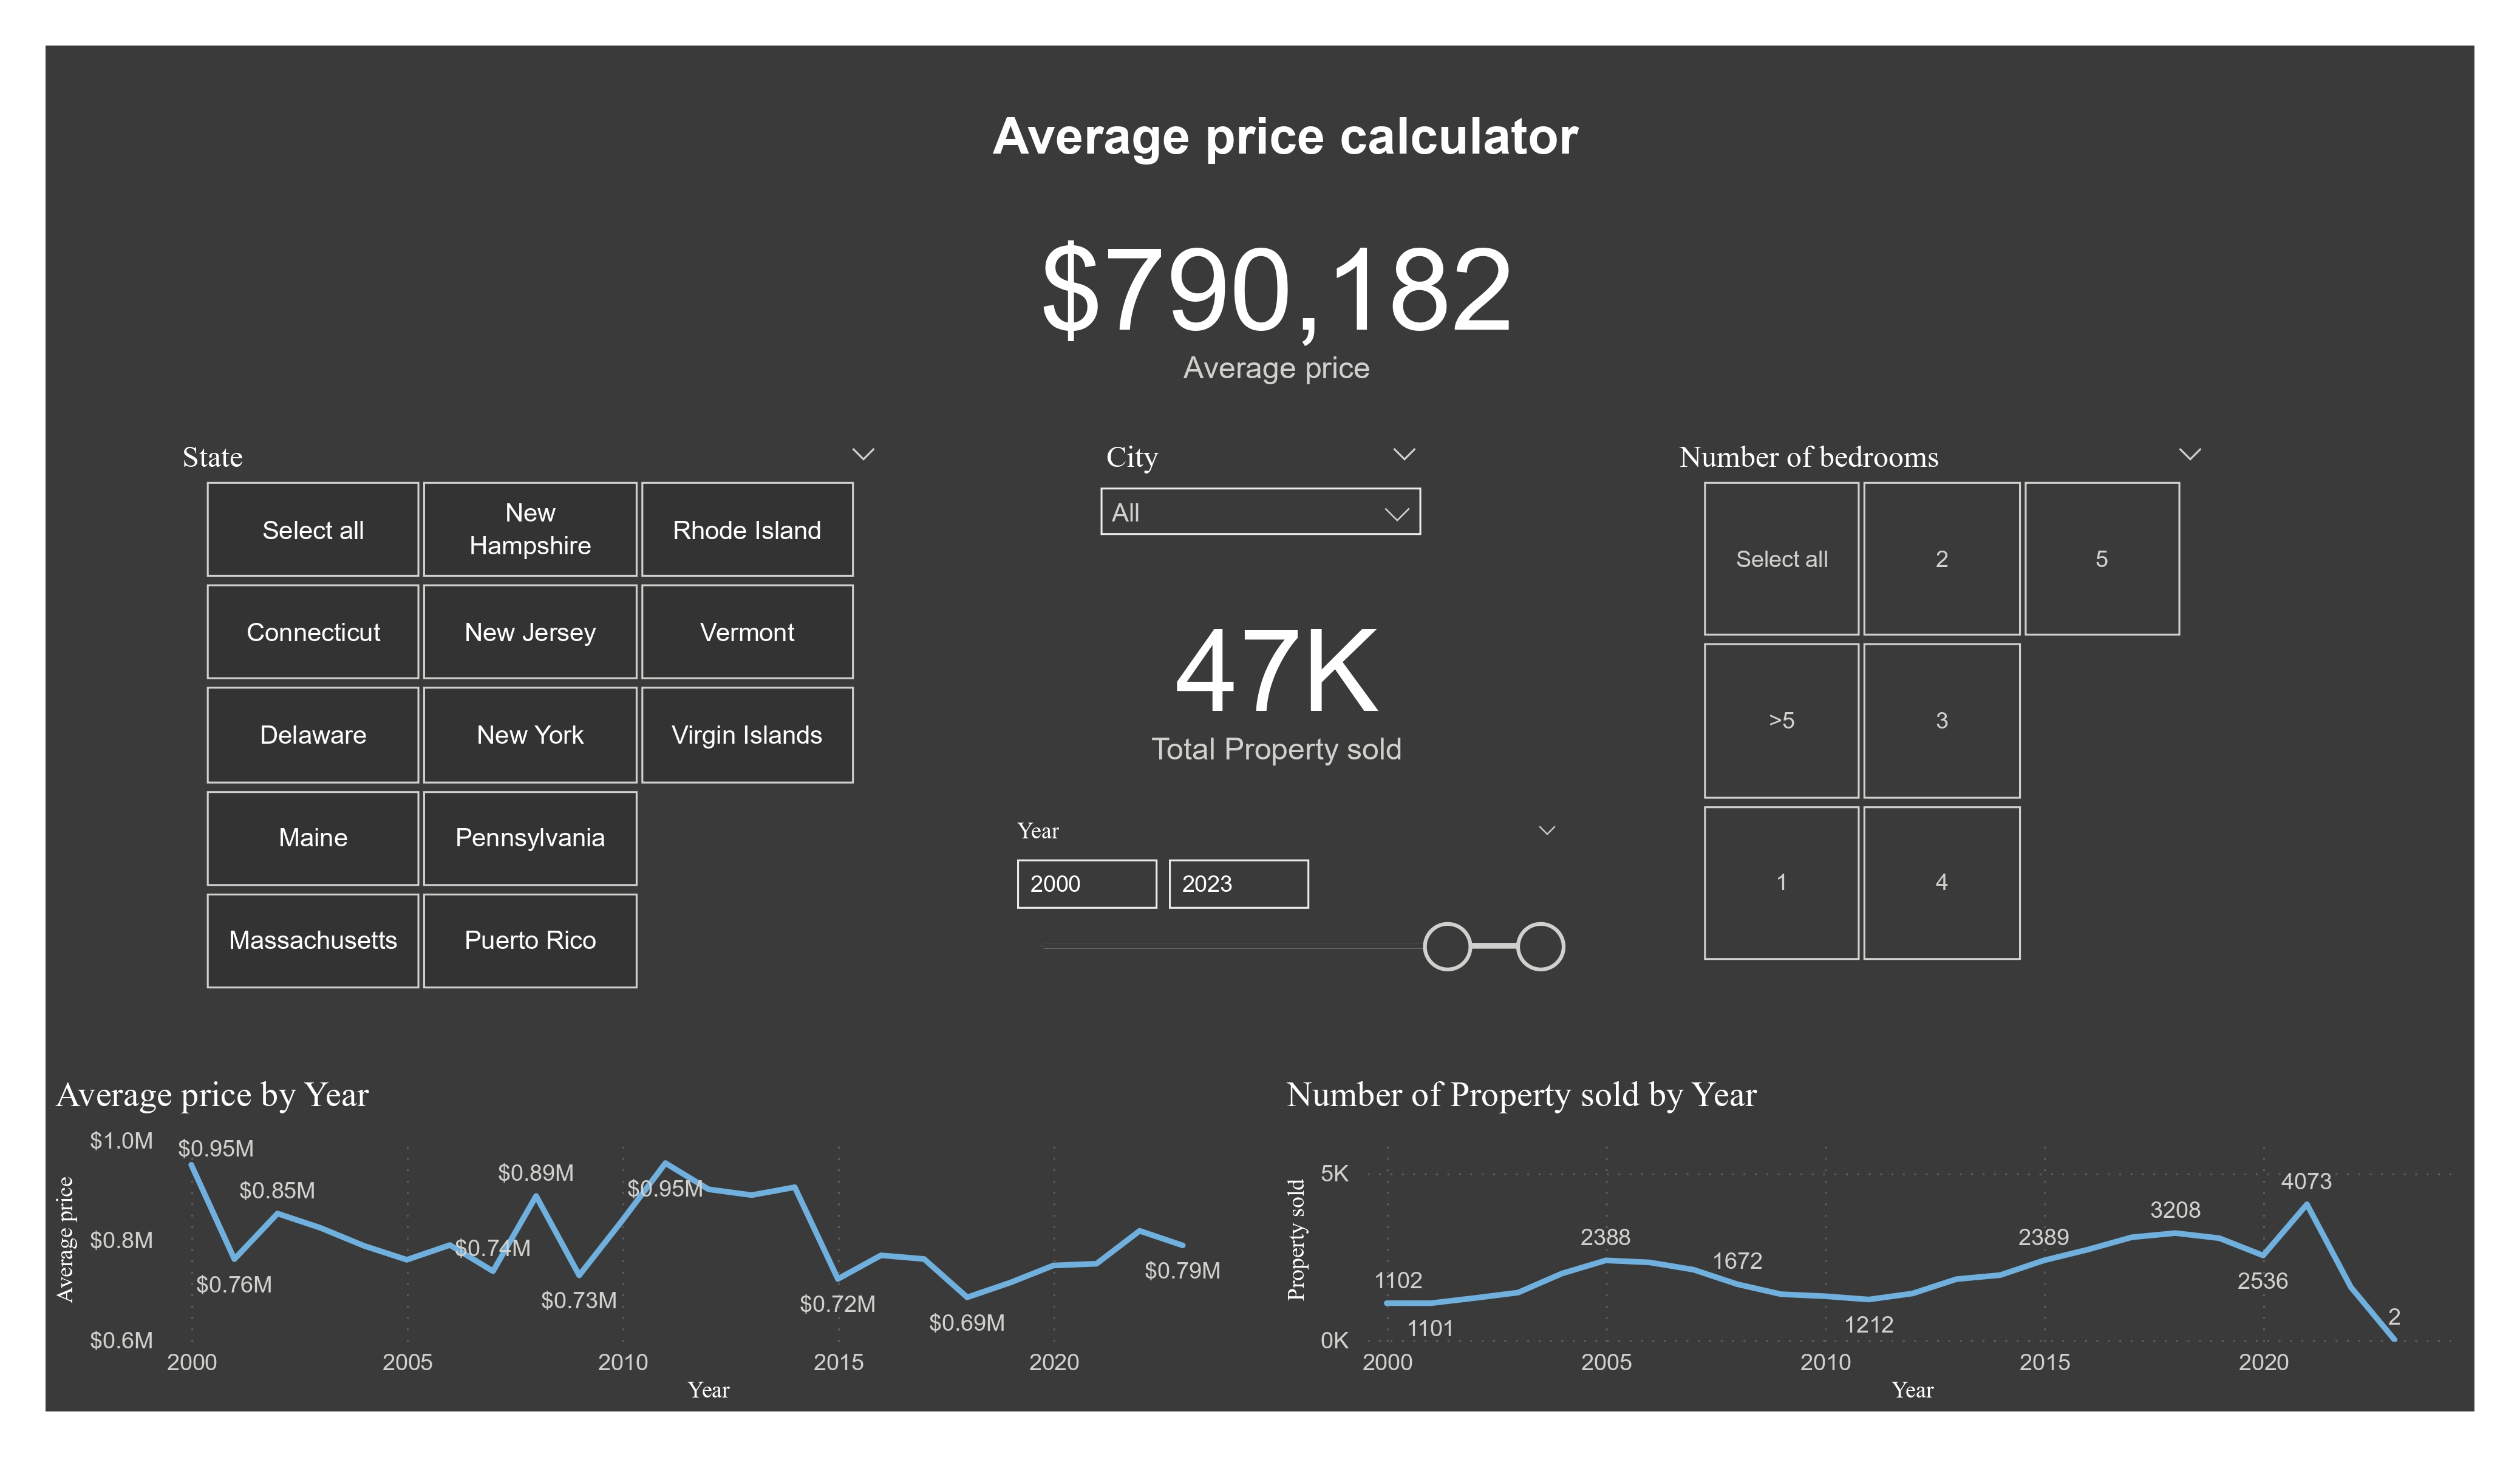

The dashboard page shown, as its layout file describes it:
{"tool":"powerbi","page":{"name":"Price Calculator","canvas":[1280,720],"ordinal":1},"visuals":[{"type":"card","fields":{"Values":["Avg(Property sold.Average price)"]},"box":[449.8,48.9,398.5,167.5],"z":0},{"type":"slicer","fields":{"Values":["Property sold.State"]},"box":[58.7,202.9,391.2,300.7],"z":1000},{"type":"slicer","fields":{"Values":["Property sold.City"]},"box":[546.4,202.9,188.3,63.6],"z":2000},{"type":"slicer","fields":{"Values":["Property sold.Bedrooms grouped"]},"box":[848.4,202.9,300.7,286],"z":3000},{"type":"slicer","fields":{"Values":["Property sold.Year"]},"box":[498.7,402.2,310.5,101.5],"z":4000},{"type":"lineChart","fields":{"Category":["Property sold.Year"],"Y":["Avg(Property sold.Average price)"]},"box":[0,541.5,640.5,178.5],"z":5000},{"type":"textbox","box":[483.6,27.7,338.9,43.4],"z":6000},{"type":"lineChart","fields":{"Y":["Sum(Property sold.Property sold)"],"Category":["Property sold.Year"]},"box":[649.1,541.5,630.8,178.5],"z":7000},{"type":"card","fields":{"Values":["Sum(Property sold.Property sold)"]},"box":[504.7,279.4,288,108.4],"z":8000}]}

Visuals, with their boxes on the page's 1280x720 design canvas (x1, y1, x2, y2). These are canvas units, not pixel positions in the 2520x1457 screenshot, which may show the page scaled, cropped or inside an application window:
card - Avg(Property sold.Average price): [left=450, top=49, right=848, bottom=216]
slicer - Property sold.State: [left=59, top=203, right=450, bottom=504]
slicer - Property sold.City: [left=546, top=203, right=735, bottom=266]
slicer - Property sold.Bedrooms grouped: [left=848, top=203, right=1149, bottom=489]
slicer - Property sold.Year: [left=499, top=402, right=809, bottom=504]
lineChart - Property sold.Year x Avg(Property sold.Average price): [left=0, top=542, right=640, bottom=720]
textbox: [left=484, top=28, right=822, bottom=71]
lineChart - Sum(Property sold.Property sold) x Property sold.Year: [left=649, top=542, right=1280, bottom=720]
card - Sum(Property sold.Property sold): [left=505, top=279, right=793, bottom=388]
